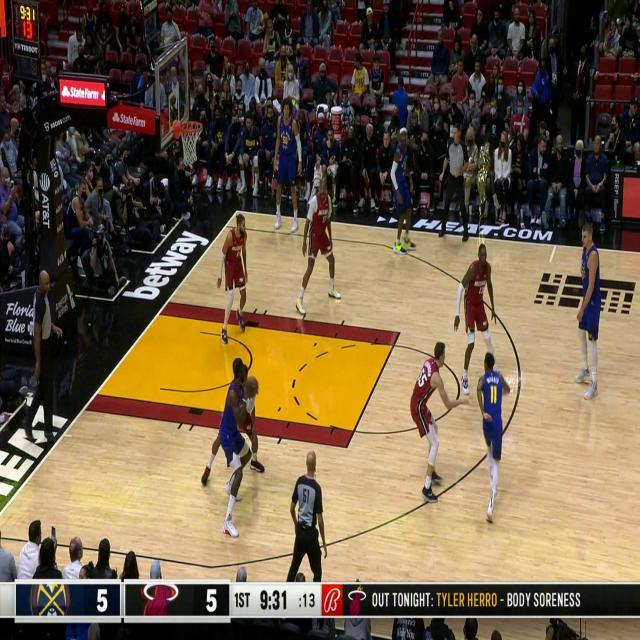rim: (245, 374, 258, 397)
